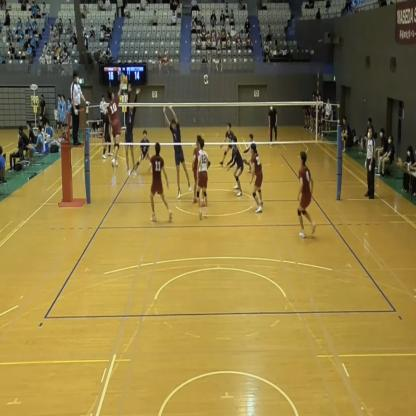spike: (105, 73, 129, 175)
